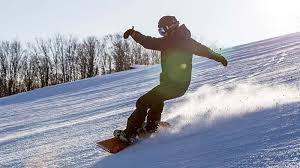snowboarder: (92, 10, 233, 157)
